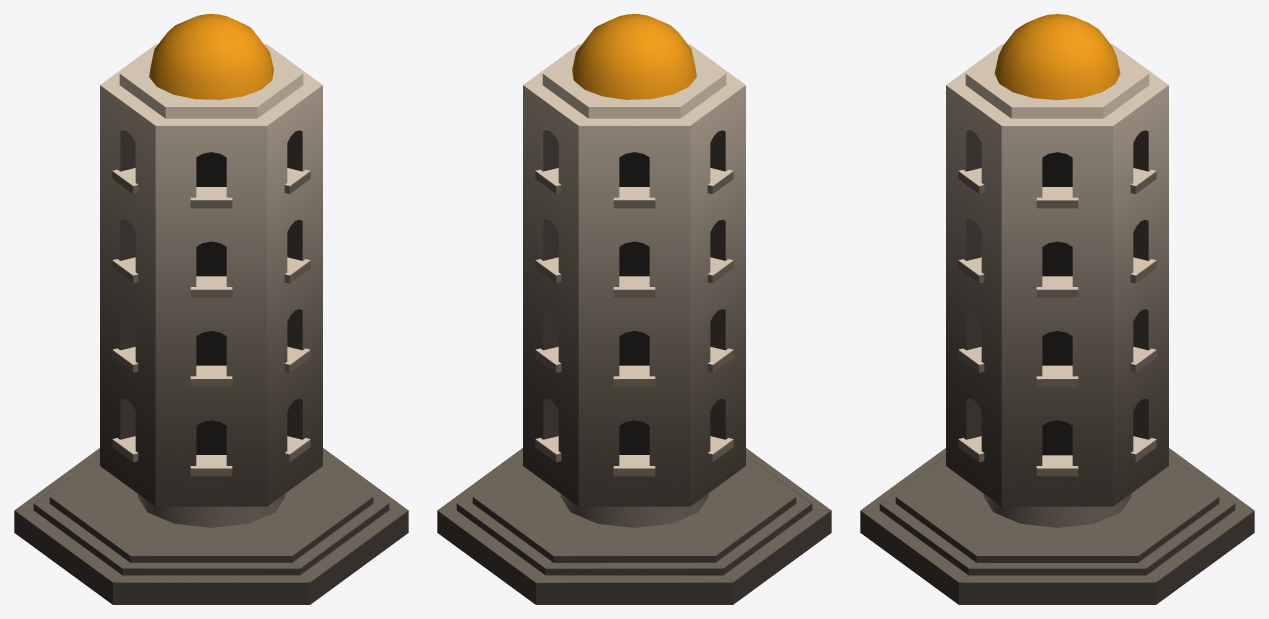
File: Enemy_Health_Tower.fbx
3 renders of one model, left to right at view 1: azimuth 30°, elevation 25°; view 2: azimuth 150°, elevation 25°; view 3: azimuth 270°, elevation 25°, orthographic.
Visible parts, largest first — view 1: Enemy_Heal_Tower; view 2: Enemy_Heal_Tower; view 3: Enemy_Heal_Tower.
Part boxes in pixels (box(x1,y1,x2,y2)): Enemy_Heal_Tower: box(14, 14, 408, 604); Enemy_Heal_Tower: box(437, 14, 831, 604); Enemy_Heal_Tower: box(860, 14, 1254, 604).
Size of the model in its own units: 4.97 by 8.23 by 5.73.
